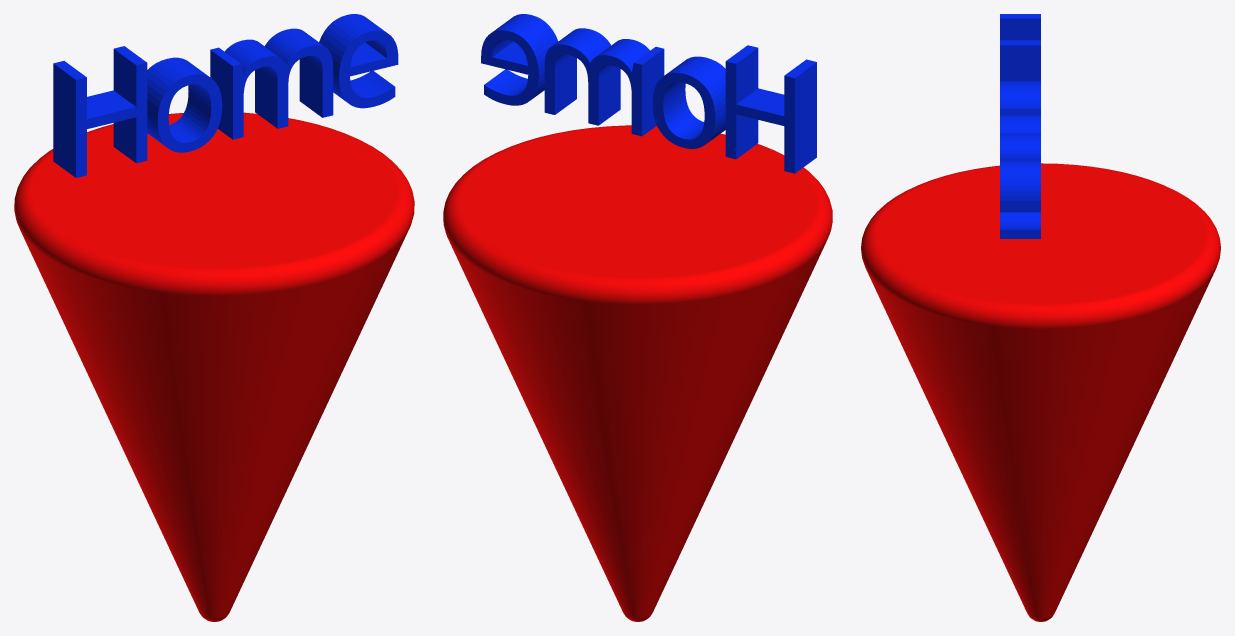
Rendered from Home.obj.
The picture shows the model from 3 angles, left to right: view 1: azimuth 30°, elevation 25°; view 2: azimuth 150°, elevation 25°; view 3: azimuth 270°, elevation 25°; orthographic projection. The views are drawn at different scales.
Visible parts, largest first — view 1: 004_Cone, 002_3D_Text_-_m, 000_3D_Text_-_H, 001_3D_Text_-_o, 003_3D_Text_-_e; view 2: 004_Cone, 002_3D_Text_-_m, 000_3D_Text_-_H, 001_3D_Text_-_o, 003_3D_Text_-_e; view 3: 004_Cone, 003_3D_Text_-_e, 000_3D_Text_-_H, 002_3D_Text_-_m, 001_3D_Text_-_o.
Boxes of the visible parts, bbox=[...] form: 004_Cone: bbox=[14, 112, 414, 621]; 002_3D_Text_-_m: bbox=[210, 28, 333, 139]; 000_3D_Text_-_H: bbox=[53, 46, 147, 177]; 001_3D_Text_-_o: bbox=[147, 57, 222, 152]; 003_3D_Text_-_e: bbox=[319, 14, 398, 108]; 004_Cone: bbox=[443, 125, 832, 621]; 002_3D_Text_-_m: bbox=[544, 28, 664, 136]; 000_3D_Text_-_H: bbox=[725, 45, 816, 173]; 001_3D_Text_-_o: bbox=[652, 56, 725, 148]; 003_3D_Text_-_e: bbox=[481, 14, 558, 105]; 004_Cone: bbox=[861, 163, 1220, 621]; 003_3D_Text_-_e: bbox=[1000, 160, 1040, 238]; 000_3D_Text_-_H: bbox=[1000, 14, 1040, 80]; 002_3D_Text_-_m: bbox=[1000, 105, 1040, 160]; 001_3D_Text_-_o: bbox=[1000, 81, 1040, 104].
Size of what is drawn, in the model's own units: 52.84 by 86.84 by 52.84.
